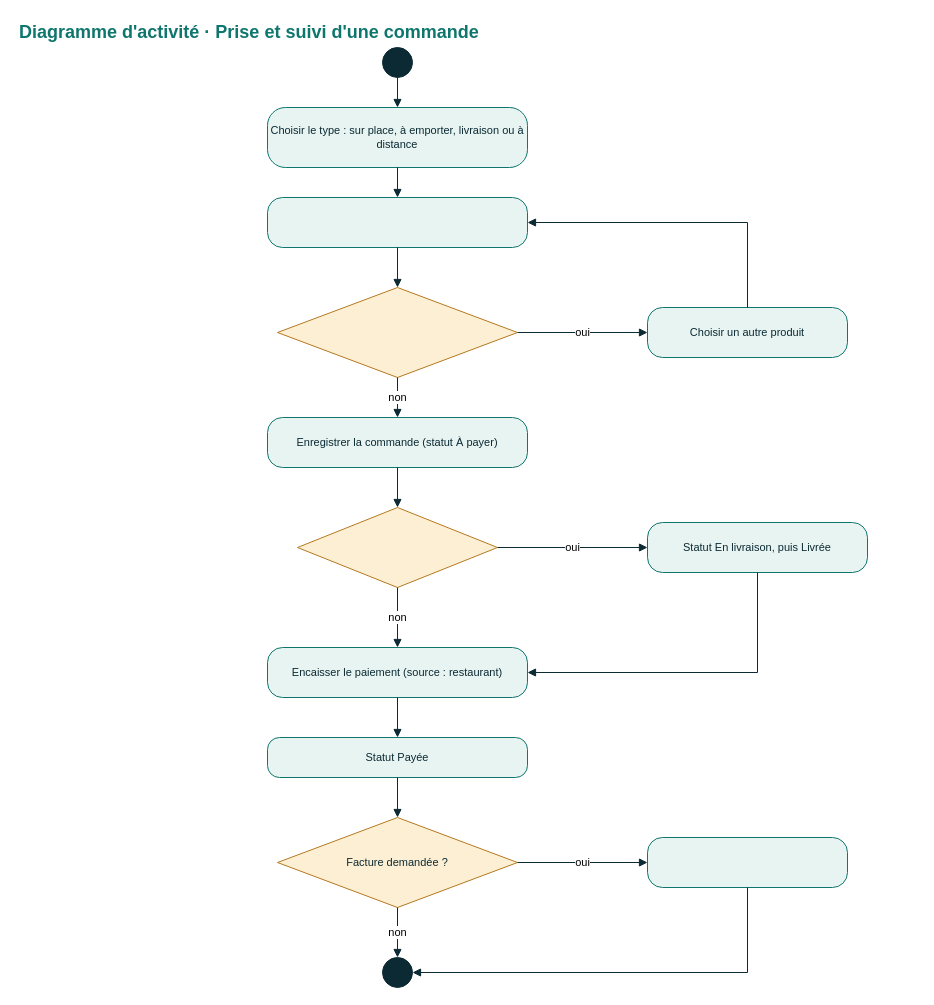
The diagram is 934 pixels wide and 1005 high, and some of its shapes have lost their labels. The shapes that lost their labels are listed below. From the top down, each one's centre as x and y in pixels, then its label:
At (x=397, y=222): "Ajouter les produits à la commande".
At (x=397, y=332): "Un produit est manquant ?".
At (x=397, y=547): "Livraison ?".
At (x=747, y=862): "Imprimer la facture".
